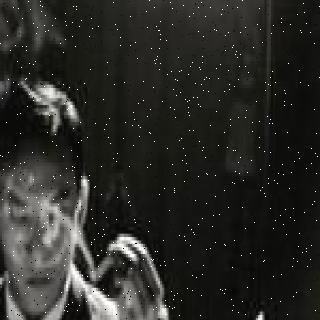smoke: (0, 76, 95, 286)
